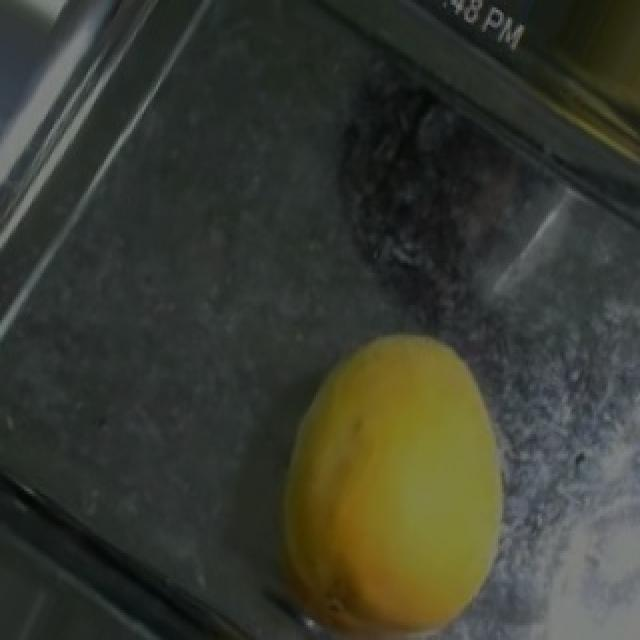fruit: (238, 288, 570, 640)
